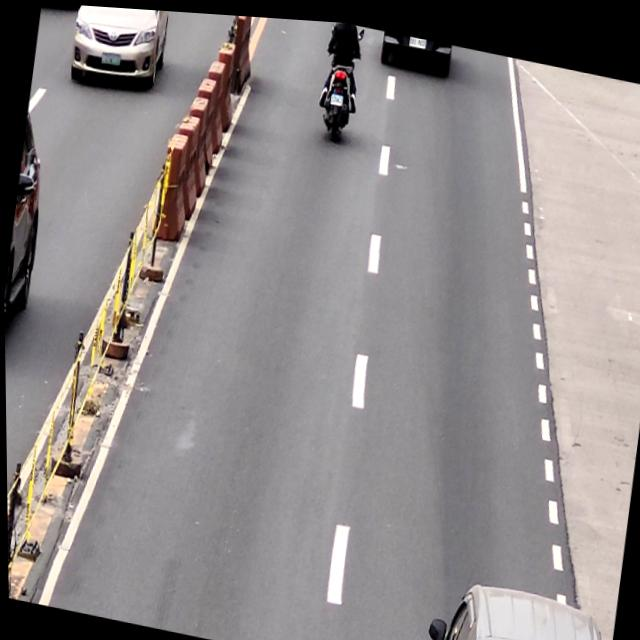Car: (418, 567, 615, 640), (379, 26, 453, 74)
License-Plate: (409, 31, 428, 44), (330, 88, 344, 102)
Motorcycle: (316, 26, 362, 141)
